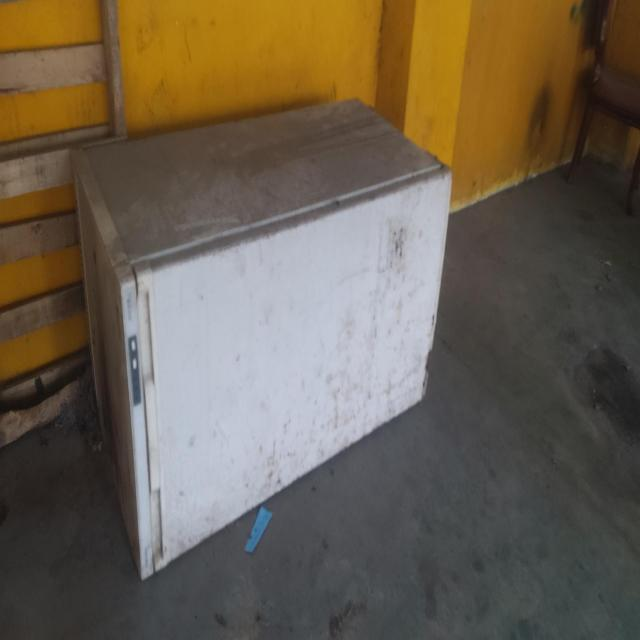refrigerator: (67, 99, 454, 582)
